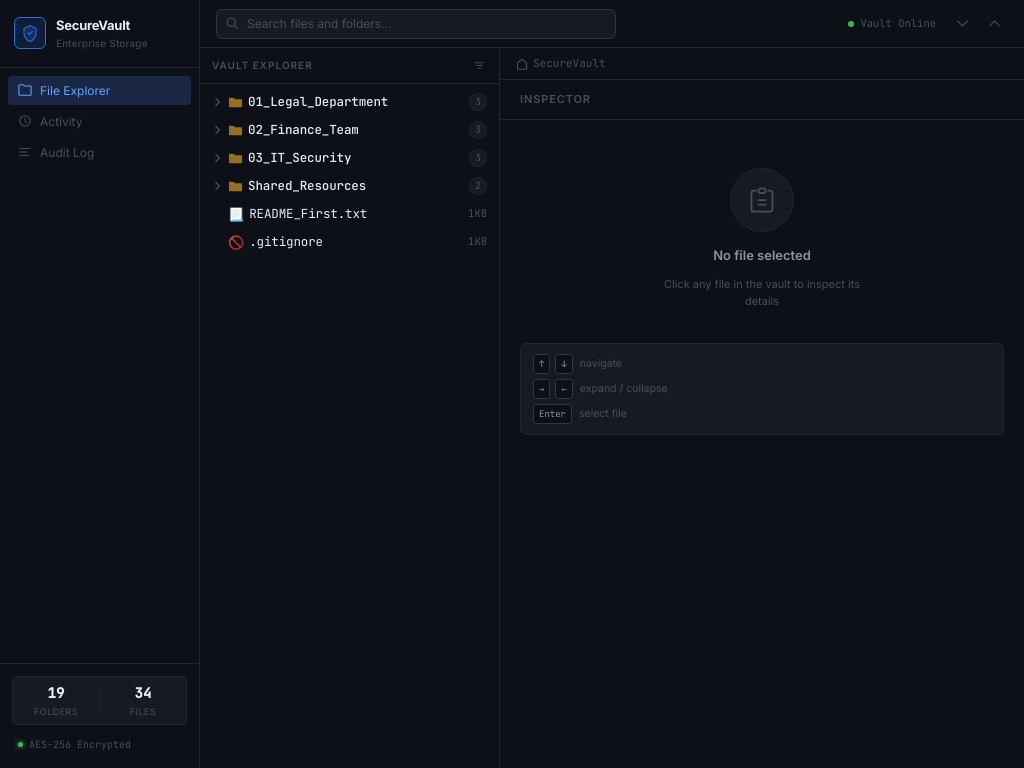
SecureVault explorer interactions › renders nested folders when each parent is expanded
The width and height of the screenshot is (1024, 768).
Click the text "01_Legal_Department": [318, 101] box left=248, top=93, right=388, bottom=110
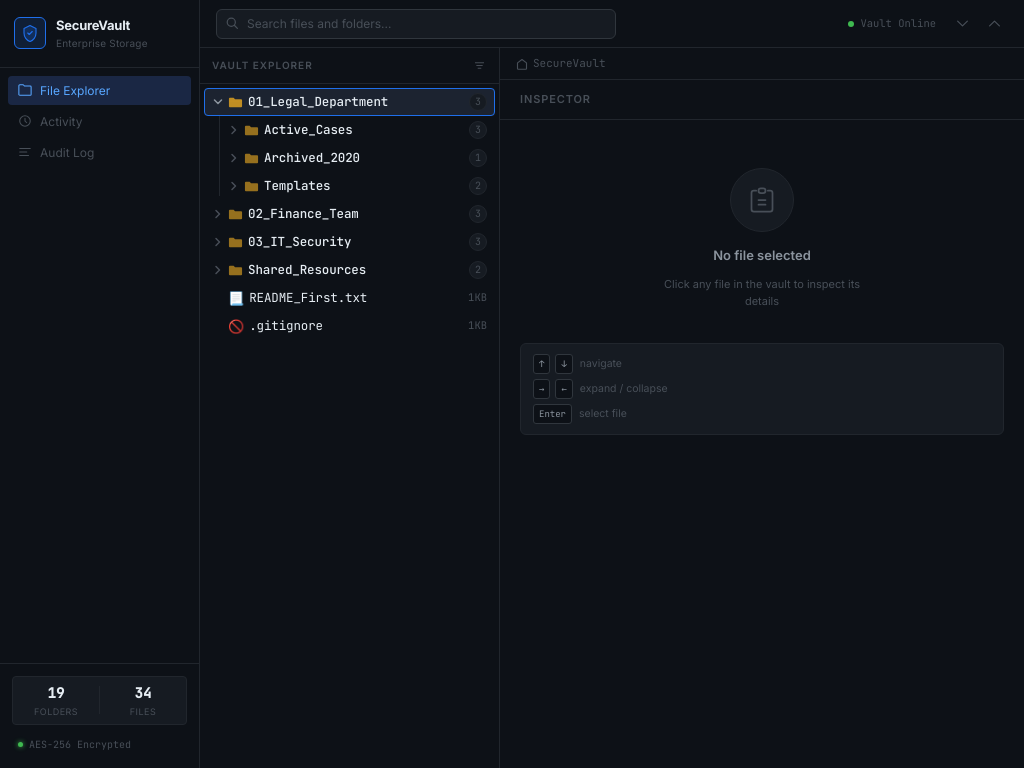
Click the text "Active_Cases": [308, 129] box left=264, top=121, right=352, bottom=138
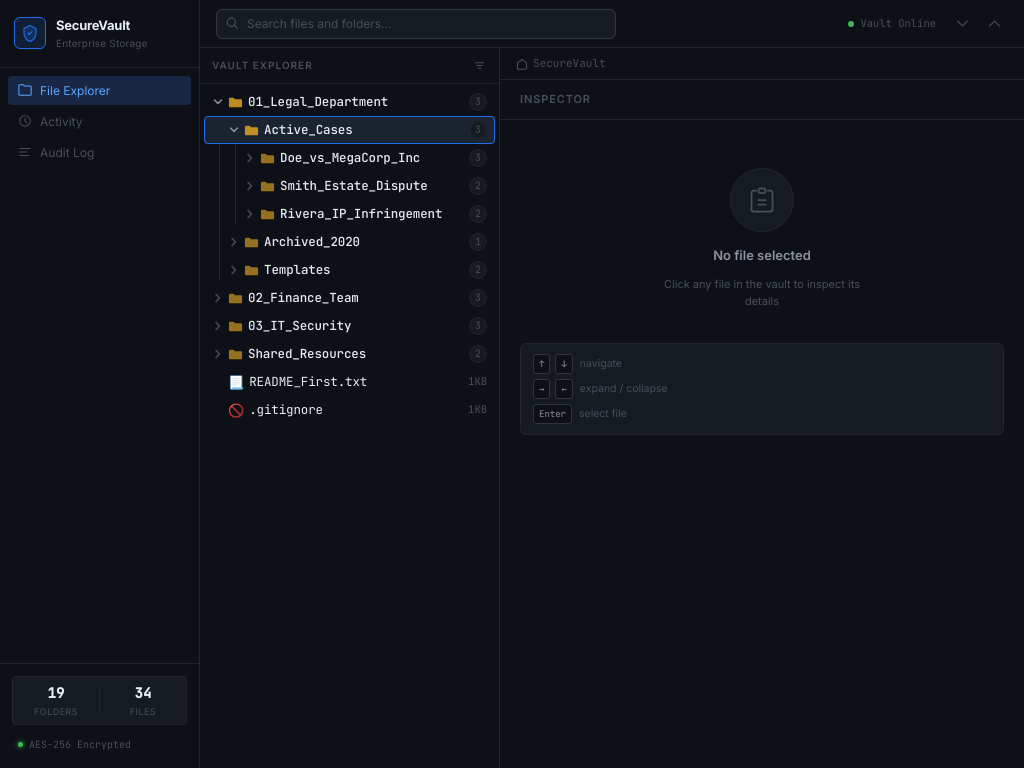
Check: the text "Doe_vs_MegaCorp_Inc" is shown
Click the text "Doe_vs_MegaCorp_Inc": [350, 157] box left=280, top=149, right=420, bottom=166
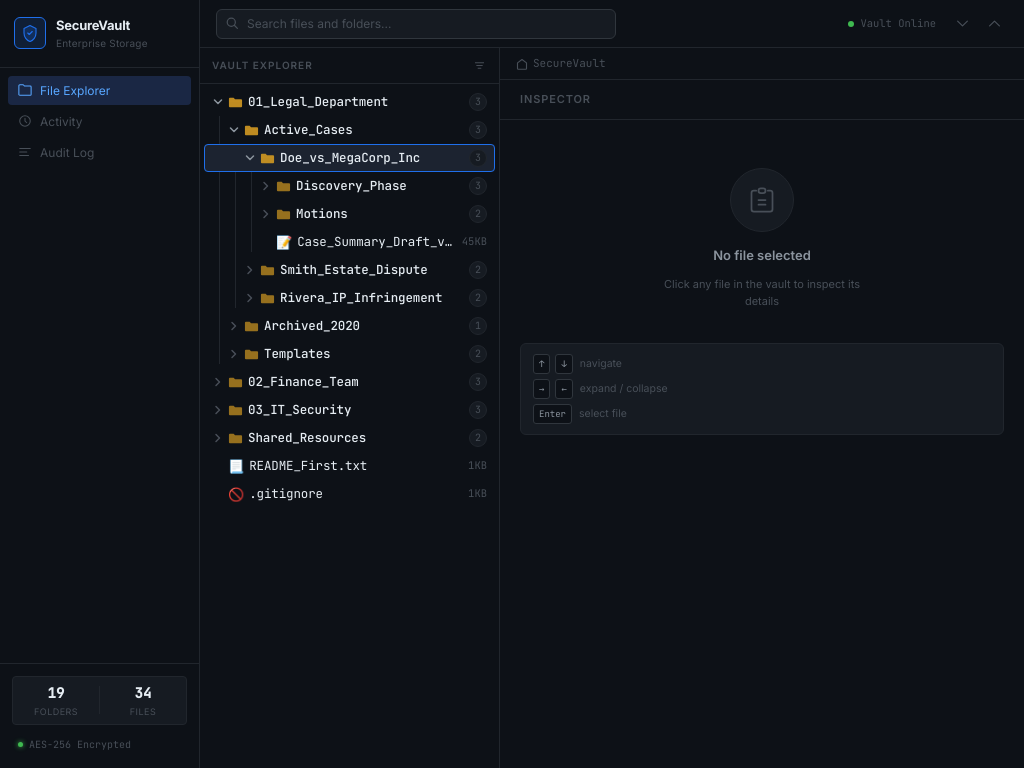
Check: the text "Discovery_Phase" is shown, box left=296, top=177, right=407, bottom=194
